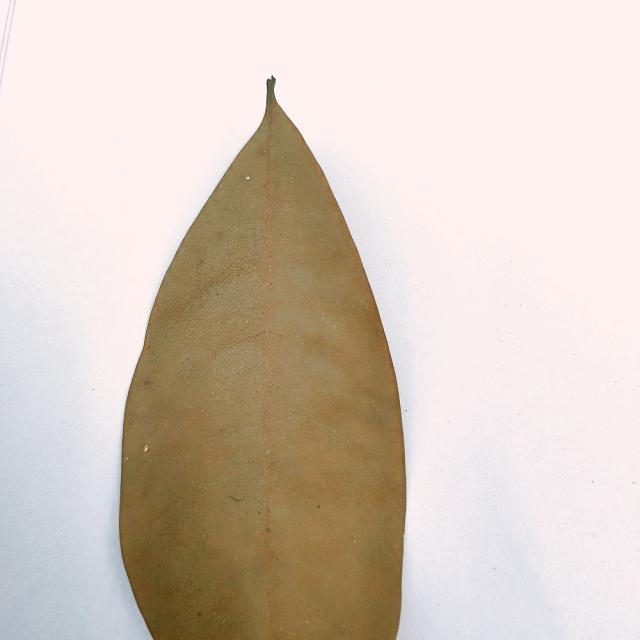Dry_Leaf-Lychee: (118, 80, 408, 639)
